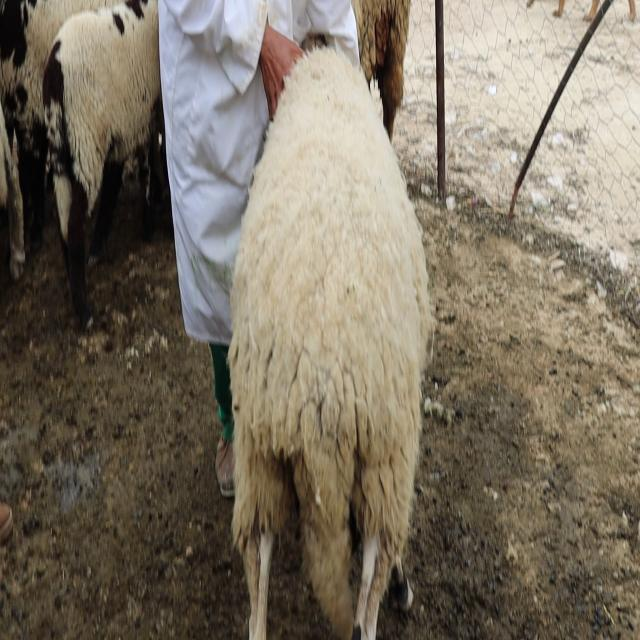Score_5: (229, 47, 434, 639)
